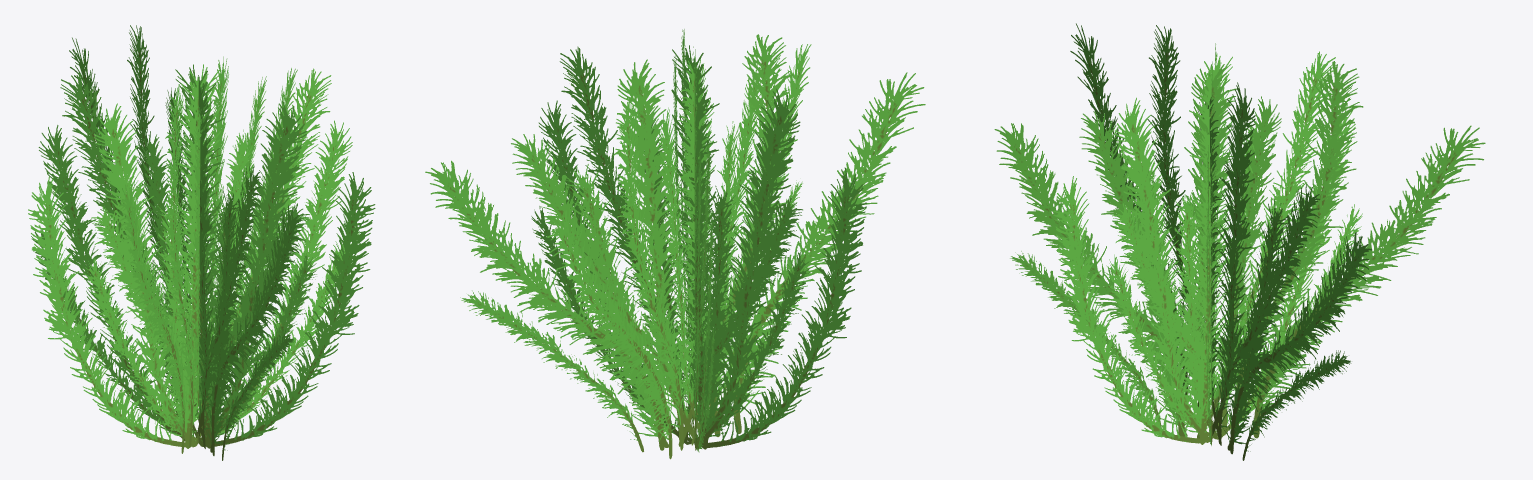
The model's file is Bush_02.fbx.
3 views of the same model, side by side, from view 1: azimuth 30°, elevation 25°; view 2: azimuth 150°, elevation 25°; view 3: azimuth 270°, elevation 25° (orthographic). The views are drawn at different scales.
Visible parts, largest first — view 1: Bush_02; view 2: Bush_02; view 3: Bush_02.
Part boxes in pixels (box(x1,y1,x2,y2)): Bush_02: box(28, 25, 375, 460); Bush_02: box(425, 29, 925, 459); Bush_02: box(994, 23, 1485, 460).
Size of the model in its own units: 80.46 by 90.4 by 101.
